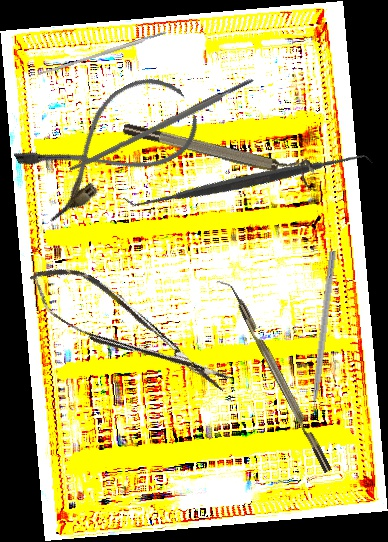Cannula: (11, 63, 208, 226)
Chopper: (215, 273, 332, 479), (299, 249, 337, 425)
Fixation Ring: (121, 111, 317, 188)
Micro Scissor: (19, 249, 238, 413)
Scalpel Handle: (68, 76, 256, 175), (38, 30, 168, 77)
Spatula Surgical: (122, 54, 374, 307)
